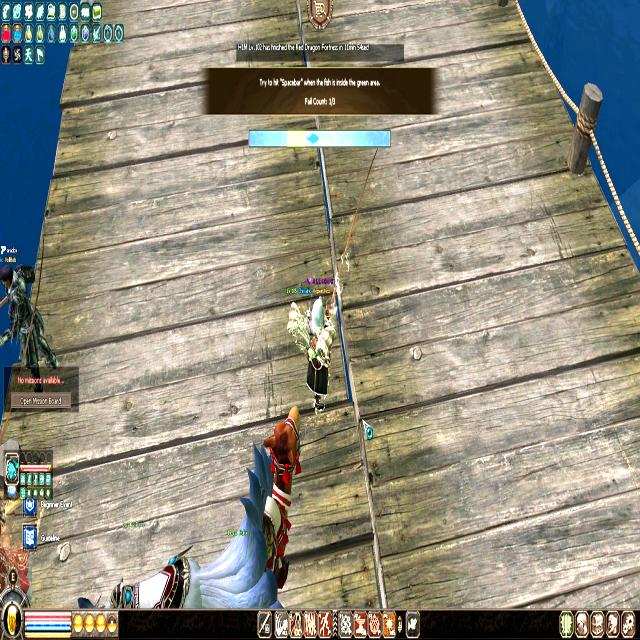fishes: (307, 132, 319, 146)
